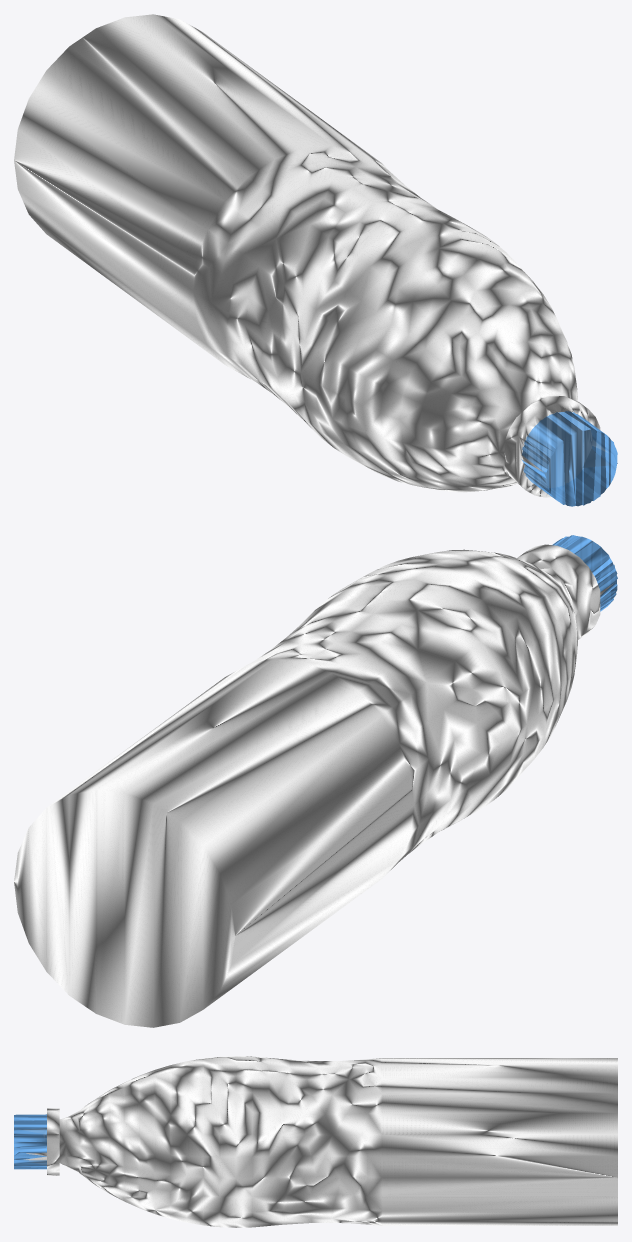
File: model_align.obj
3 renders of one model, top to bottom at view 1: azimuth 30°, elevation 25°; view 2: azimuth 150°, elevation 25°; view 3: azimuth 270°, elevation 25°, orthographic. The views are drawn at different scales.
Size of the model in its own units: 0.0402 by 0.0402 by 0.1409.
